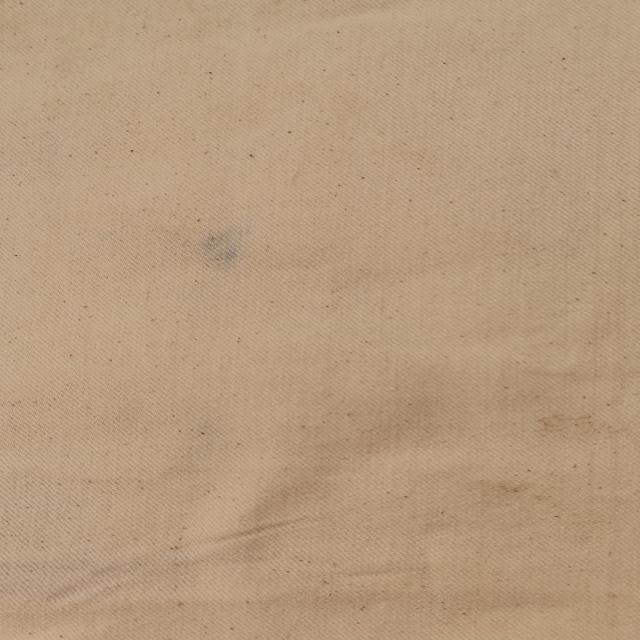taaaches: (186, 219, 266, 274), (527, 409, 631, 438), (470, 479, 558, 505)
